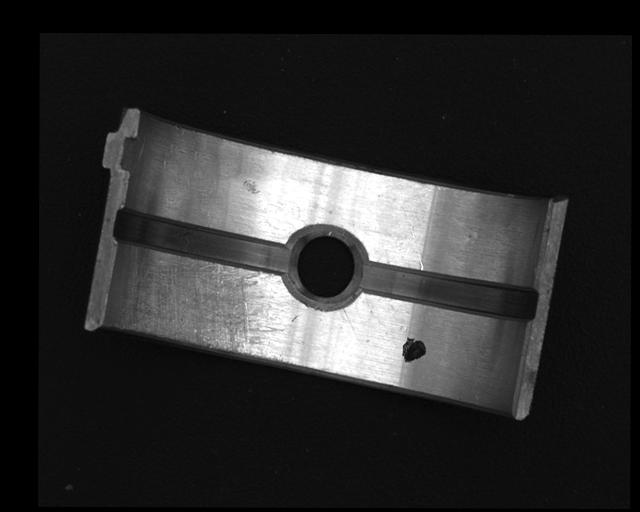blot: (402, 336, 426, 363)
bruise: (241, 178, 260, 195)
gap: (111, 206, 299, 275), (359, 260, 540, 321)
hole: (289, 227, 362, 306)
nick: (401, 205, 425, 271), (342, 306, 358, 342)
scratch: (112, 248, 286, 368)
